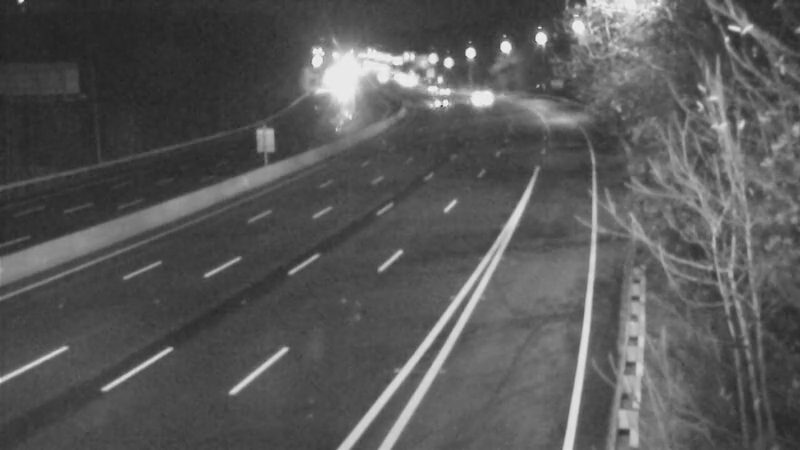vehicle: (449, 74, 499, 124), (413, 75, 463, 125)
